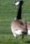goose: (9, 1, 30, 40)
